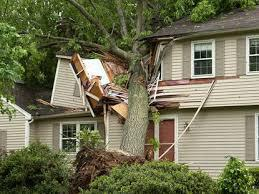major: (33, 8, 259, 166)
